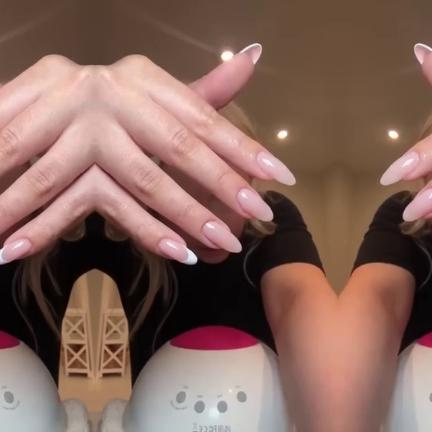Nail: (256, 151, 295, 186), (379, 151, 418, 186), (201, 221, 242, 254), (236, 189, 273, 222), (157, 239, 197, 265), (401, 189, 432, 222), (0, 239, 31, 265)
